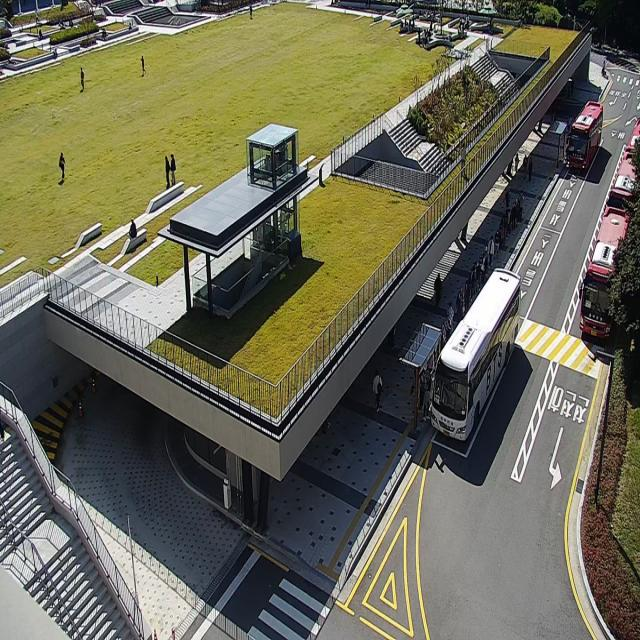queue: (416, 189, 524, 426)
